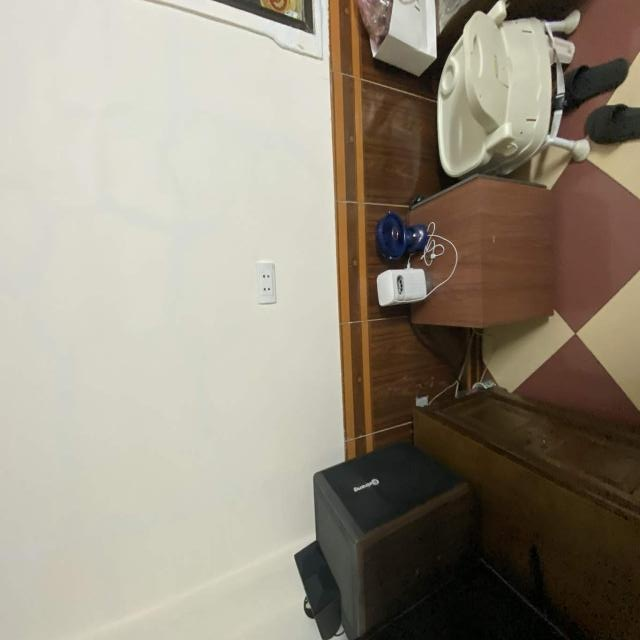outlet: (256, 263, 276, 305)
